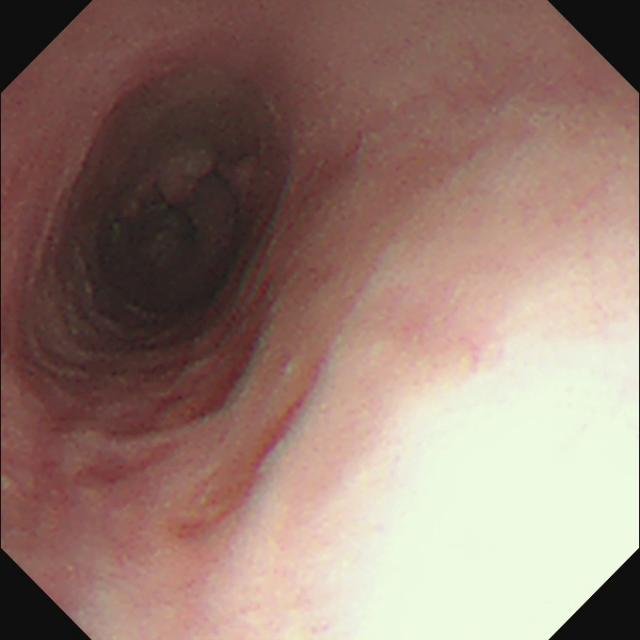A: (64, 307, 271, 440), (174, 387, 309, 540)
U: (313, 342, 639, 640)
